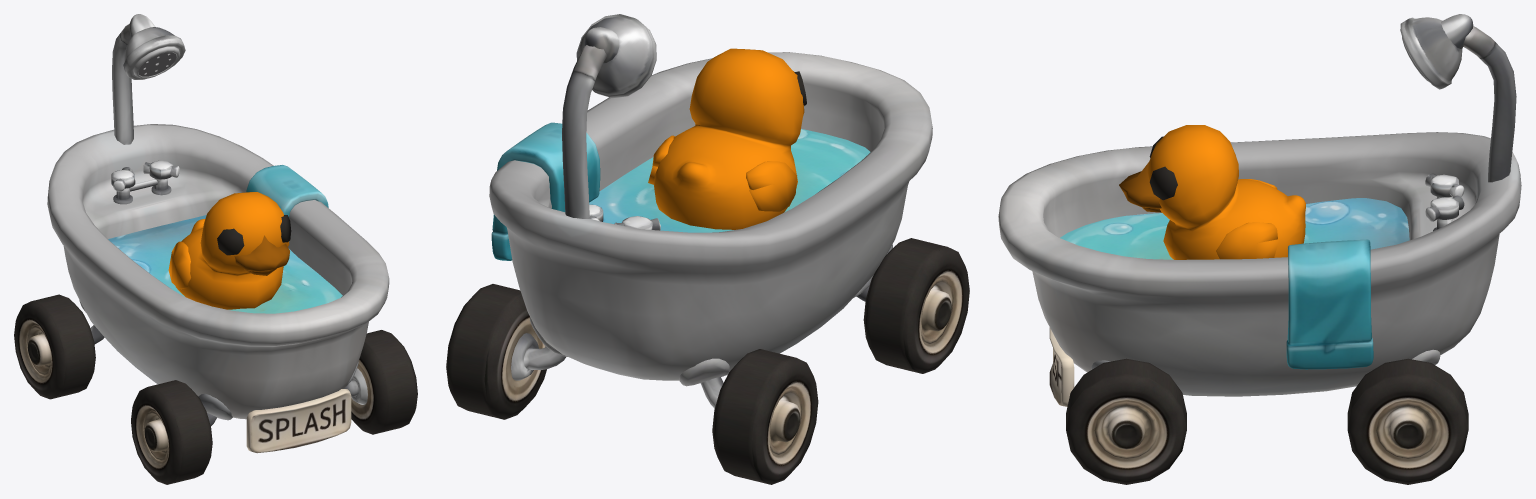
Rendered from Bathub.glb.
3 views of the same model, side by side, from view 1: azimuth 30°, elevation 25°; view 2: azimuth 150°, elevation 25°; view 3: azimuth 270°, elevation 25° (orthographic). The views are drawn at different scales.
Parts seen in each view (by area): view 1: Bathub_car_body, Front_right, Back_right, Front_left; view 2: Bathub_car_body, Back_right, Front_right, Back_left; view 3: Bathub_car_body, Back_left, Front_left.
Part boxes in pixels (box(x1,y1,x2,y2)): Bathub_car_body: box(47, 14, 389, 453); Front_right: box(131, 380, 212, 484); Back_right: box(14, 294, 95, 399); Front_left: box(351, 330, 417, 434); Bathub_car_body: box(489, 14, 932, 408); Back_right: box(712, 349, 818, 484); Front_right: box(863, 238, 969, 373); Back_left: box(446, 284, 546, 419); Bathub_car_body: box(998, 14, 1521, 406); Back_left: box(1347, 358, 1468, 484); Front_left: box(1066, 358, 1186, 484).
Bounding box in the file's own units: 2.16 × 2.76 × 3.24.
1 material, 1 textured.
